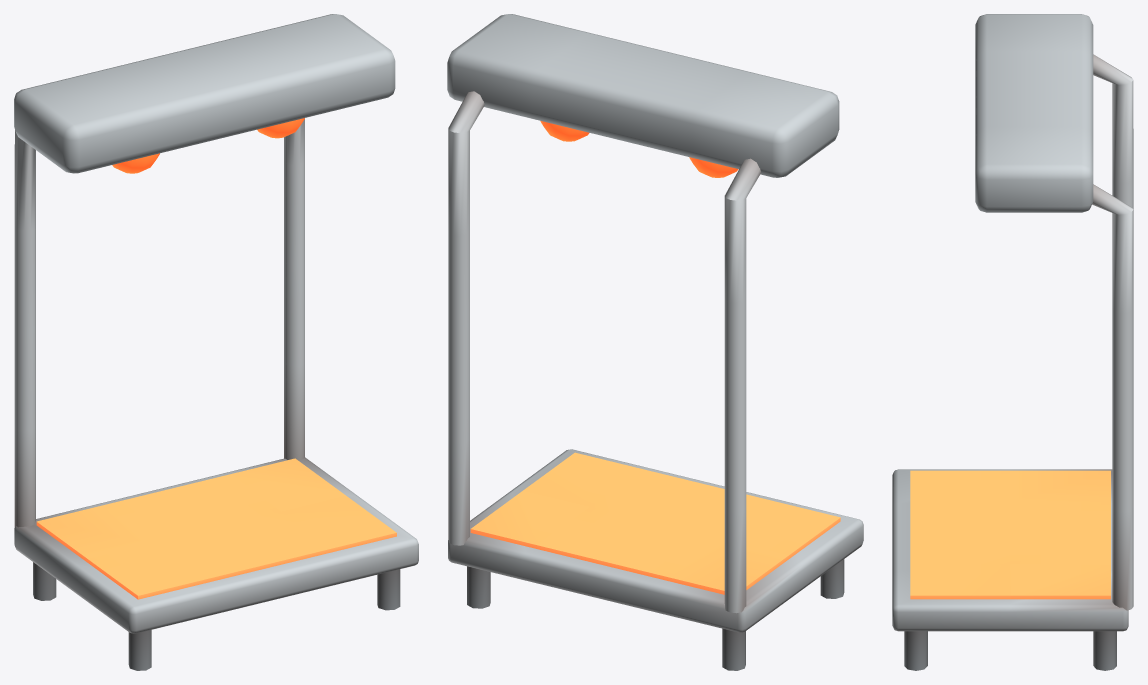
Rendered from fp-pass.gltf.
The picture shows the model from 3 angles, left to right: view 1: azimuth 30°, elevation 25°; view 2: azimuth 150°, elevation 25°; view 3: azimuth 270°, elevation 25°; orthographic projection. The views are drawn at different scales.
Parts seen in each view (by area): view 1: model; view 2: model; view 3: model.
Boxes of the visible parts, x1,y1,x2,y2 form: model: (14,14,418,670); model: (447,14,863,670); model: (892,14,1133,670).
Bounding box in the file's own units: 0.32 × 0.4825 × 0.204.
